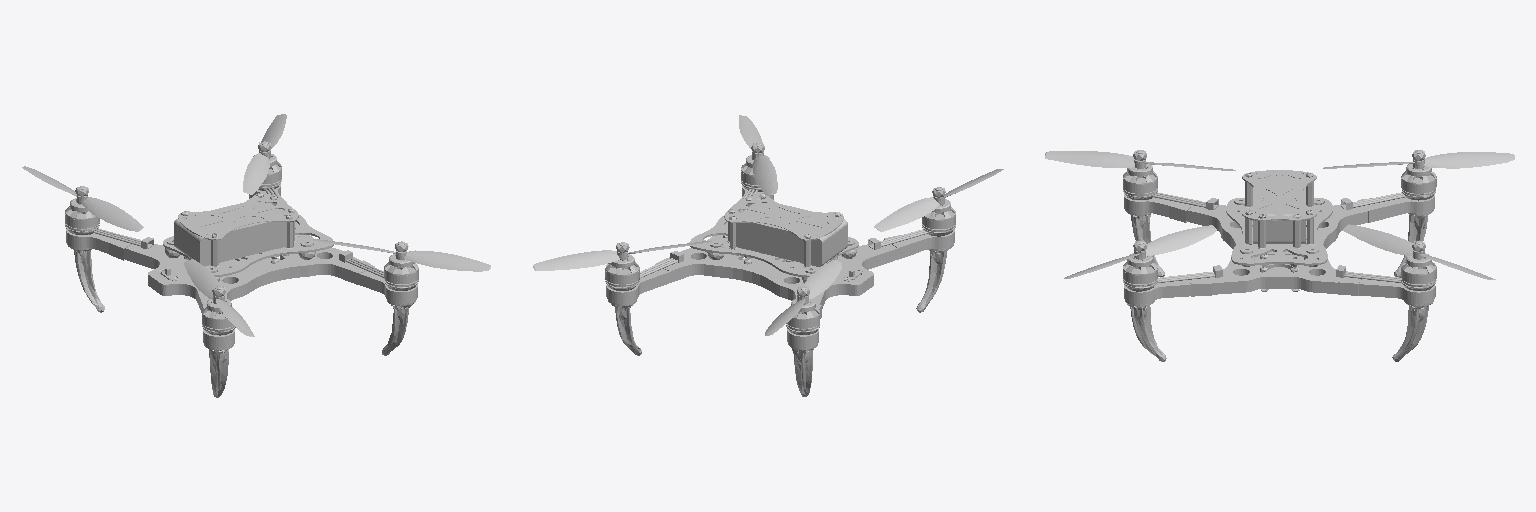
URDF robot description (ddk):
<?xml version="1.0"?>
<!--
/****************************************************************************
 *   Copyright (c) 2018 [author]. All rights reserved.
 *
 * Redistribution and use in source and binary forms, with or without
 * modification, are permitted provided that the following conditions
 * are met:
 *
 * 1. Redistributions of source code must retain the above copyright
 *    notice, this list of conditions and the following disclaimer.
 * 2. Redistributions in binary form must reproduce the above copyright
 *    notice, this list of conditions and the following disclaimer in
 *    the documentation and/or other materials provided with the
 *    distribution.
 * 3. Neither the name ATLFlight nor the names of its contributors may be
 *    used to endorse or promote products derived from this software
 *    without specific prior written permission.
 *
 * NO EXPRESS OR IMPLIED LICENSES TO ANY PARTY'S PATENT RIGHTS ARE GRANTED BY THIS LICENSE.
 * THIS SOFTWARE IS PROVIDED BY THE COPYRIGHT [author]
 * "AS IS" AND ANY EXPRESS OR IMPLIED WARRANTIES, INCLUDING, BUT NOT
 * LIMITED TO, THE IMPLIED WARRANTIES OF MERCHANTABILITY AND FITNESS
 * FOR A PARTICULAR PURPOSE ARE DISCLAIMED. IN NO EVENT SHALL THE
 * COPYRIGHT [author] LIABLE FOR ANY DIRECT, INDIRECT,
 * INCIDENTAL, SPECIAL, EXEMPLARY, OR CONSEQUENTIAL DAMAGES (INCLUDING,
 * BUT NOT LIMITED TO, PROCUREMENT OF SUBSTITUTE GOODS OR SERVICES; LOSS
 * OF USE, DATA, OR PROFITS; OR BUSINESS INTERRUPTION) HOWEVER CAUSED
 * AND ON ANY THEORY OF LIABILITY, WHETHER IN CONTRACT, STRICT
 * LIABILITY, OR TORT (INCLUDING NEGLIGENCE OR OTHERWISE) ARISING IN
 * ANY WAY OUT OF THE USE OF THIS SOFTWARE, EVEN IF ADVISED OF THE
 * POSSIBILITY OF SUCH DAMAGE.
 *
 * In addition Supplemental Terms apply.  See the SUPPLEMENTAL file.
 ****************************************************************************/
-->
<robot name="ddk">
  <link name="base_link">
    <visual>
      <geometry>
        <mesh filename="package://qflight_descriptions/meshes/230.stl"/>
      </geometry>
      <origin rpy="1.57079632679 0 1.57079632679" xyz="0 0 0"/>
      <material name="white">
        <color rgba="0.8 0.8 0.8 1"/>
      </material>
    </visual>
  </link>
</robot>

--- Render facts (derived) ---
3 views of the same robot in one strip: view 1: azimuth 30°, elevation 25°; view 2: azimuth 150°, elevation 25°; view 3: azimuth 270°, elevation 25° (orthographic).
Model ddk with 1 links and 0 joints (none), rooted at base_link, posed all joints at 0.
Visible links, largest first — view 1: base_link; view 2: base_link; view 3: base_link.
Boxes of the visible links, <box> form: base_link: <box>22,114,490,397</box>; base_link: <box>533,115,1003,396</box>; base_link: <box>1045,150,1514,361</box>.
Size in the robot's own frame: 0.1986 by 0.3079 by 0.0898 metres.
Meshes: 1 distinct files referenced, 1 mesh visuals loaded (1 binary STL).